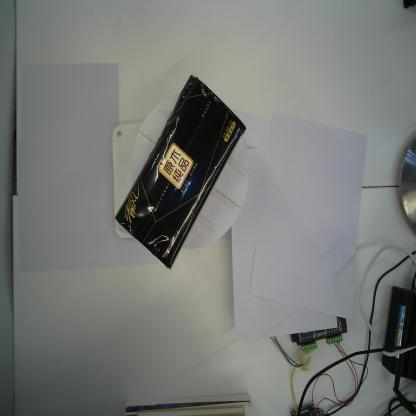Tissue: (114, 71, 246, 272)
